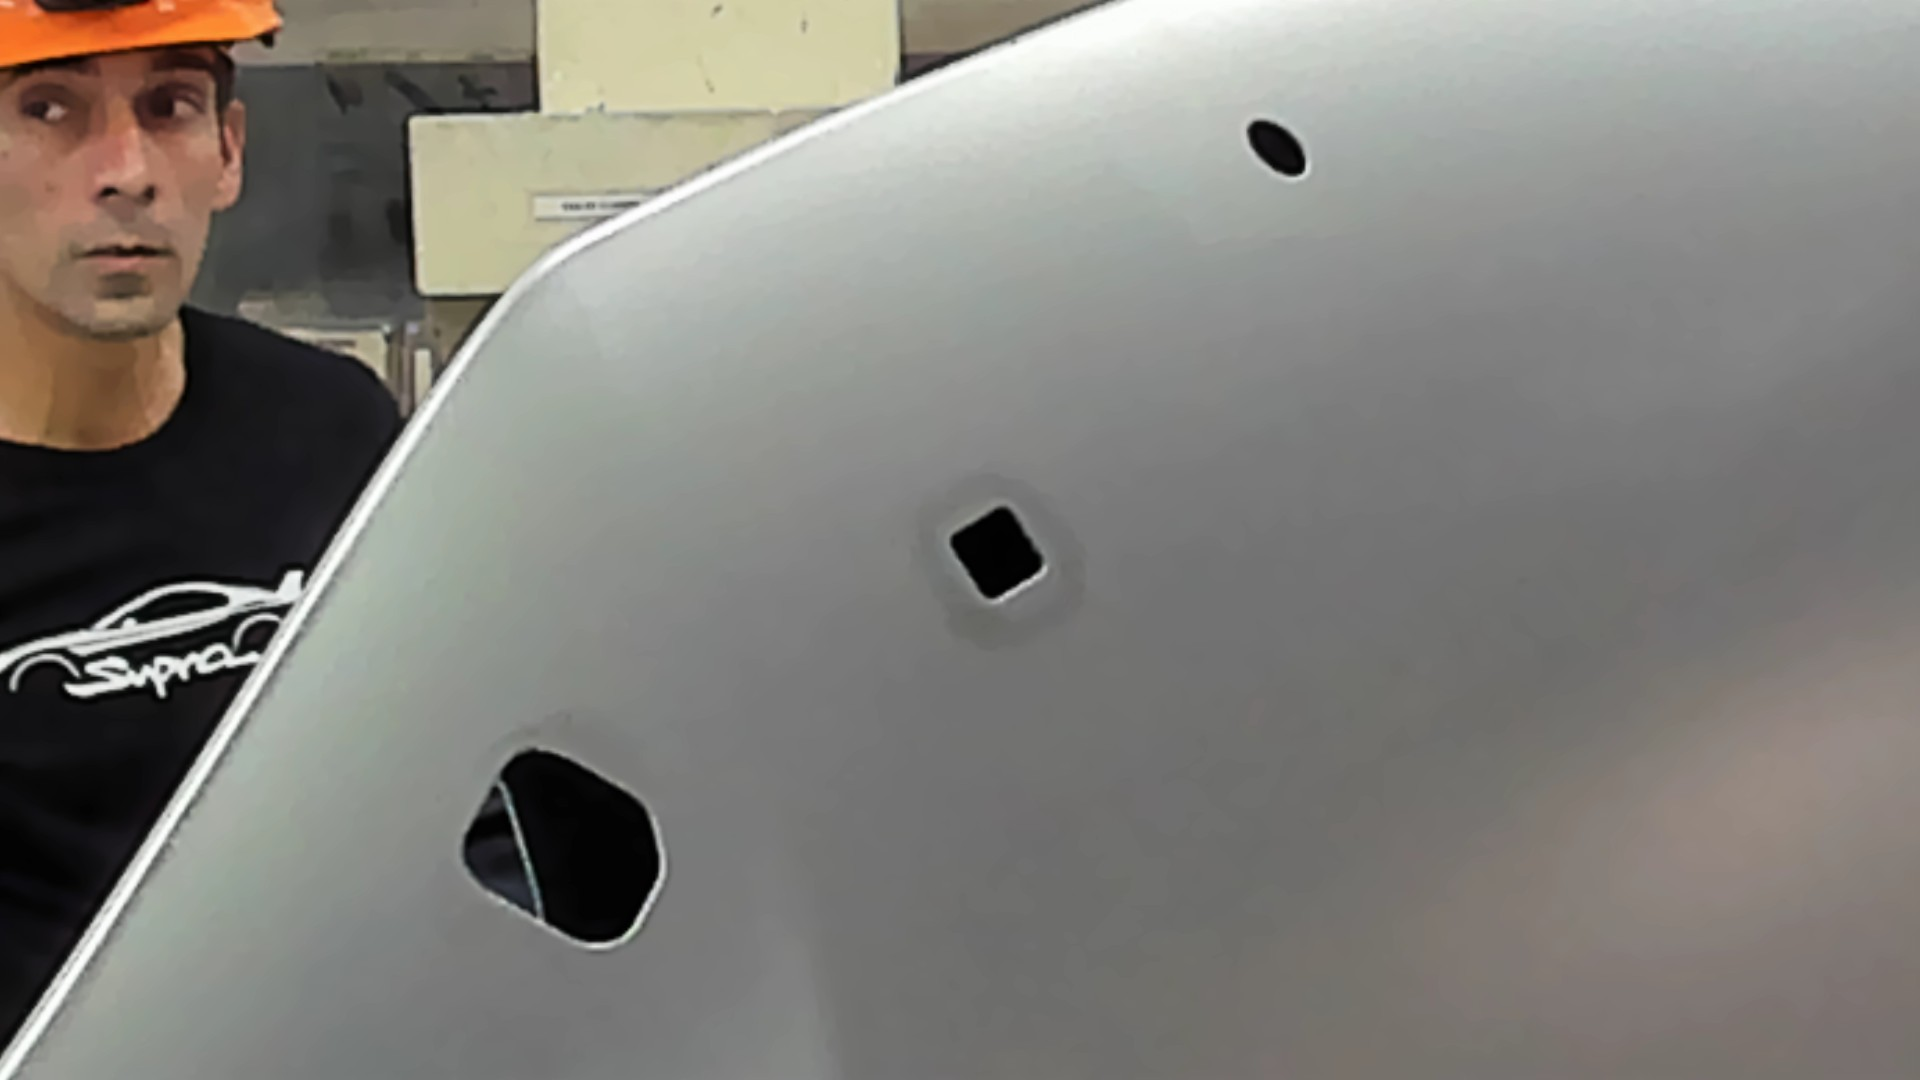chico: (1244, 113, 1311, 185)
grande: (458, 742, 671, 957)
mediano: (938, 501, 1058, 615)
